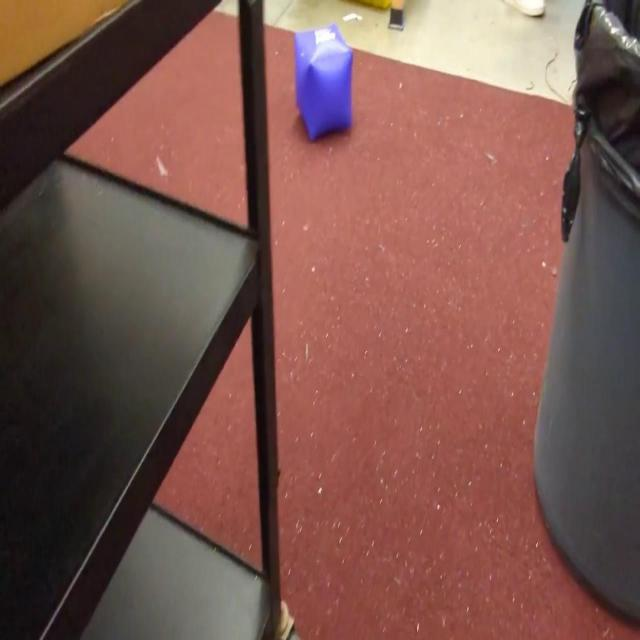frc_cube: (296, 24, 354, 141)
